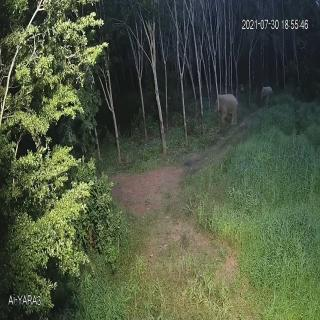Elephant: (212, 88, 239, 128), (260, 81, 276, 107)
